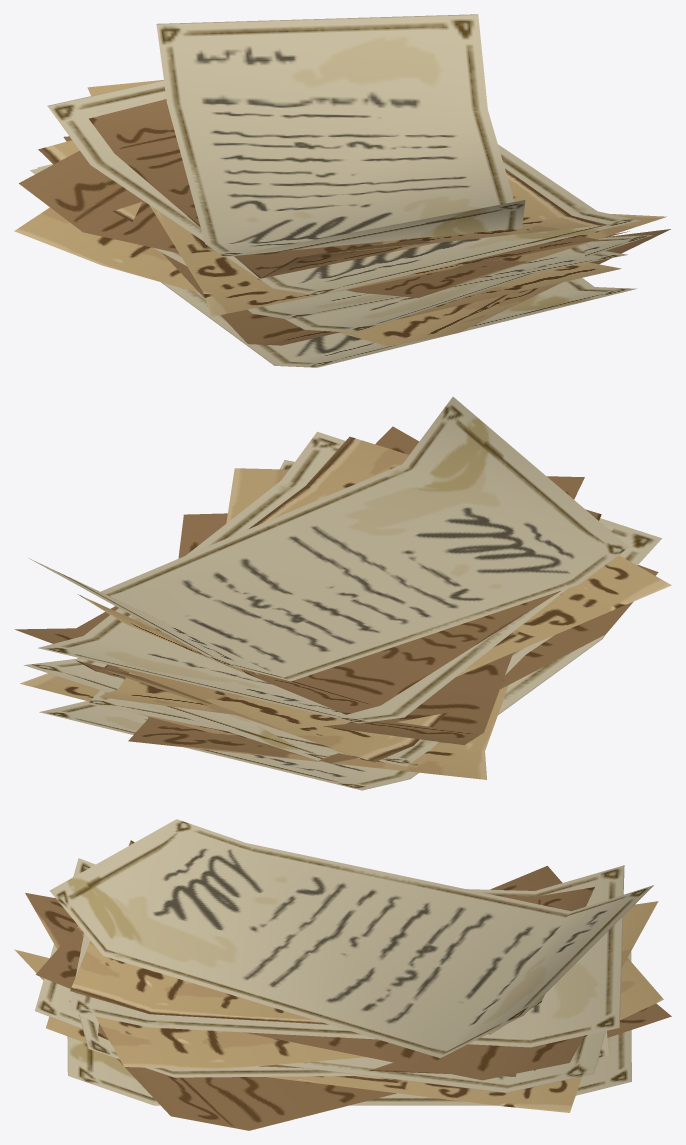
The model's file is SM_PROP_scroll_dungeon_05.fbx.
3 views of the same model, one above another, from view 1: azimuth 30°, elevation 25°; view 2: azimuth 150°, elevation 25°; view 3: azimuth 270°, elevation 25° (orthographic).
Parts seen in each view (by area): view 1: SM_PROP_scroll_dungeon_05; view 2: SM_PROP_scroll_dungeon_05; view 3: SM_PROP_scroll_dungeon_05.
Part boxes in pixels (x1=…): SM_PROP_scroll_dungeon_05: x1=14, y1=14, x2=670, y2=367; SM_PROP_scroll_dungeon_05: x1=14, y1=397, x2=671, y2=790; SM_PROP_scroll_dungeon_05: x1=14, y1=819, x2=671, y2=1130.
Bounding box in the file's own units: 41.22 × 12.71 × 48.73.
